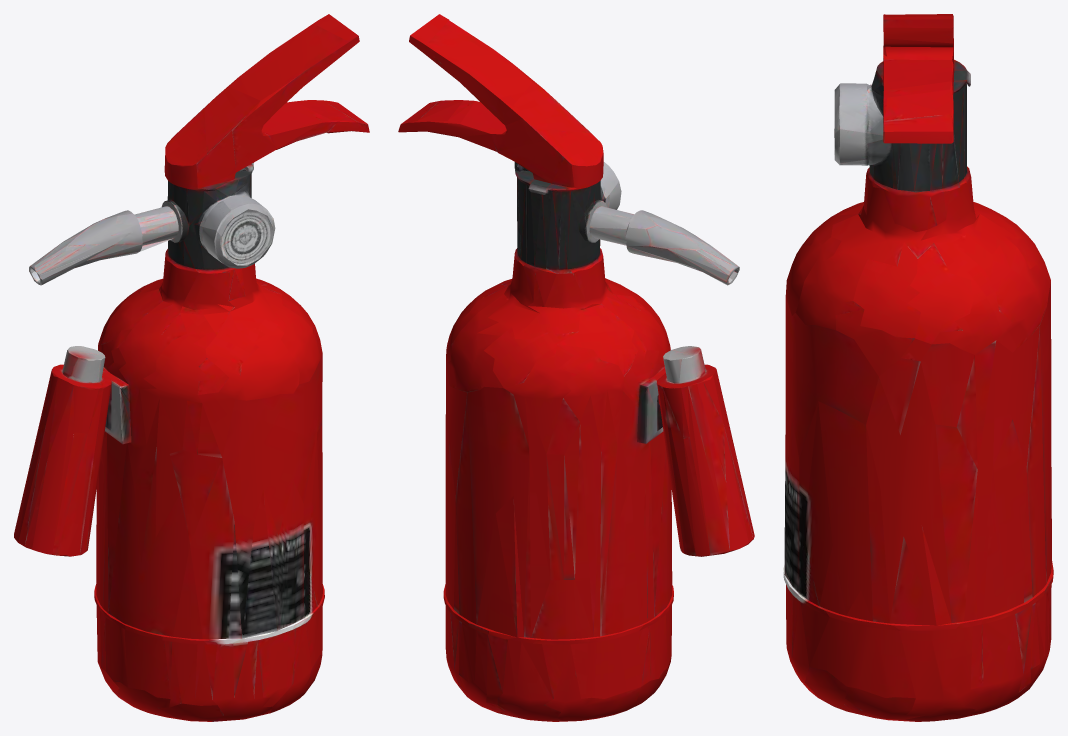
Rendered from extinguisher.glb.
The picture shows the model from 3 angles, left to right: view 1: azimuth 30°, elevation 25°; view 2: azimuth 150°, elevation 25°; view 3: azimuth 270°, elevation 25°; orthographic projection. The views are drawn at different scales.
Bounding box in the file's own units: 1.08 × 1.9 × 0.6378.
Materials: 1 (1 with a texture image).
